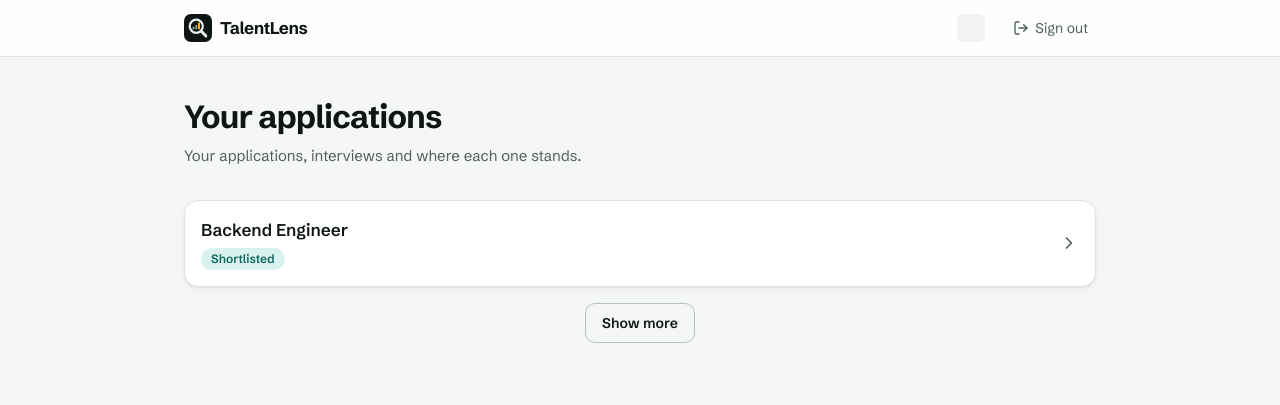
ApplicationsPage › loads the next page on request
The width and height of the screenshot is (1280, 405).
Click the button "Show more".
click(640, 323)  # box [585,303,695,343]
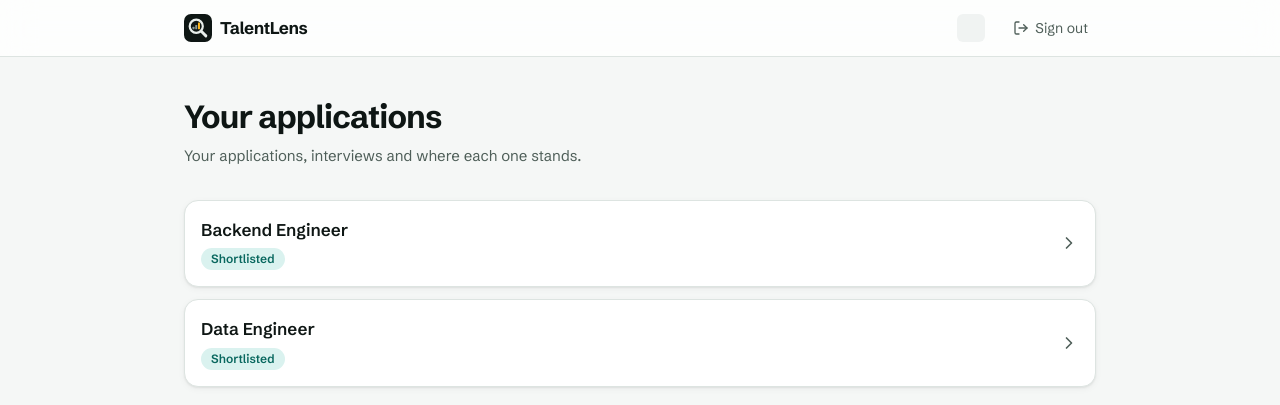
Check: the text "Backend Engineer" is shown, box [201,216,348,242]
Check: the text "Data Engineer" is shown, box [201,316,315,342]
Check: the button "Show more" is gone
